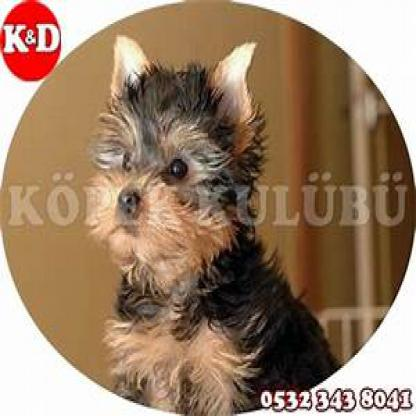dog: (93, 37, 341, 373)
